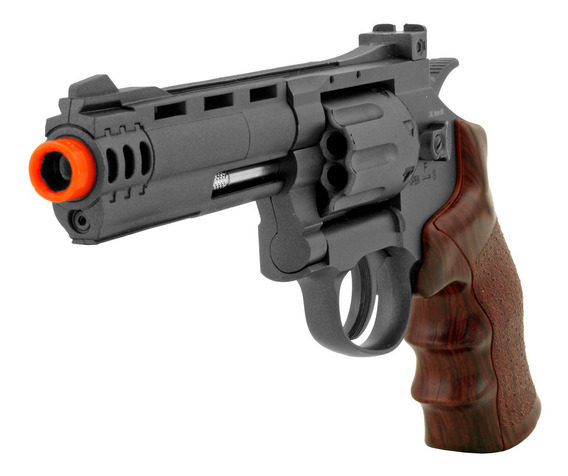Arma Falsa: (25, 22, 544, 452)
